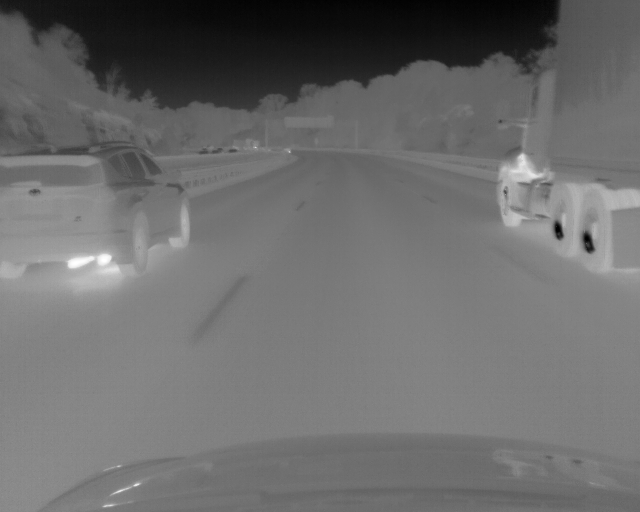car: (493, 2, 640, 272), (1, 142, 186, 280)
